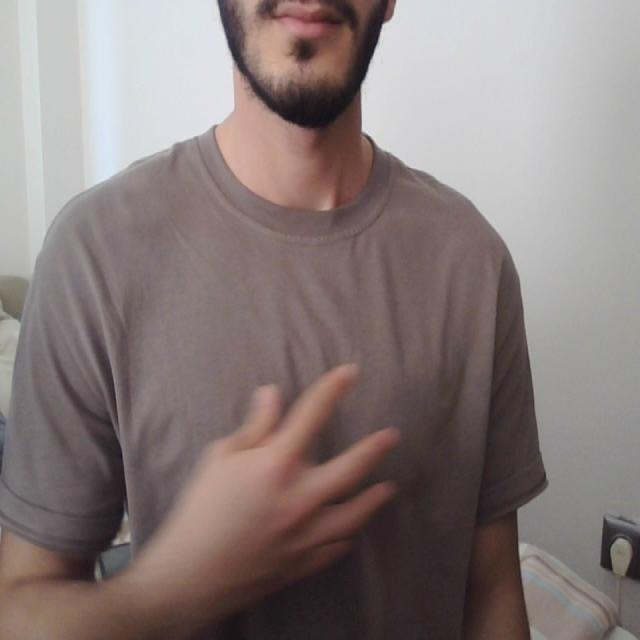Anne: (90, 334, 485, 616)
